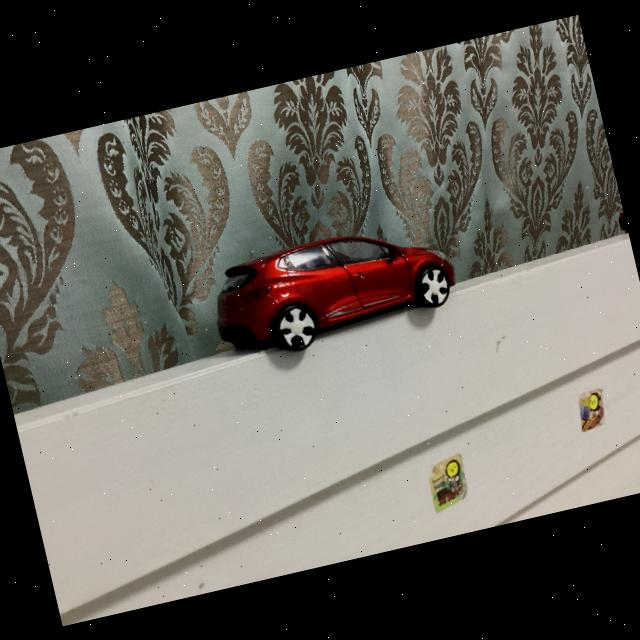Yanlis_Jant: (274, 304, 320, 352), (414, 264, 452, 307)
